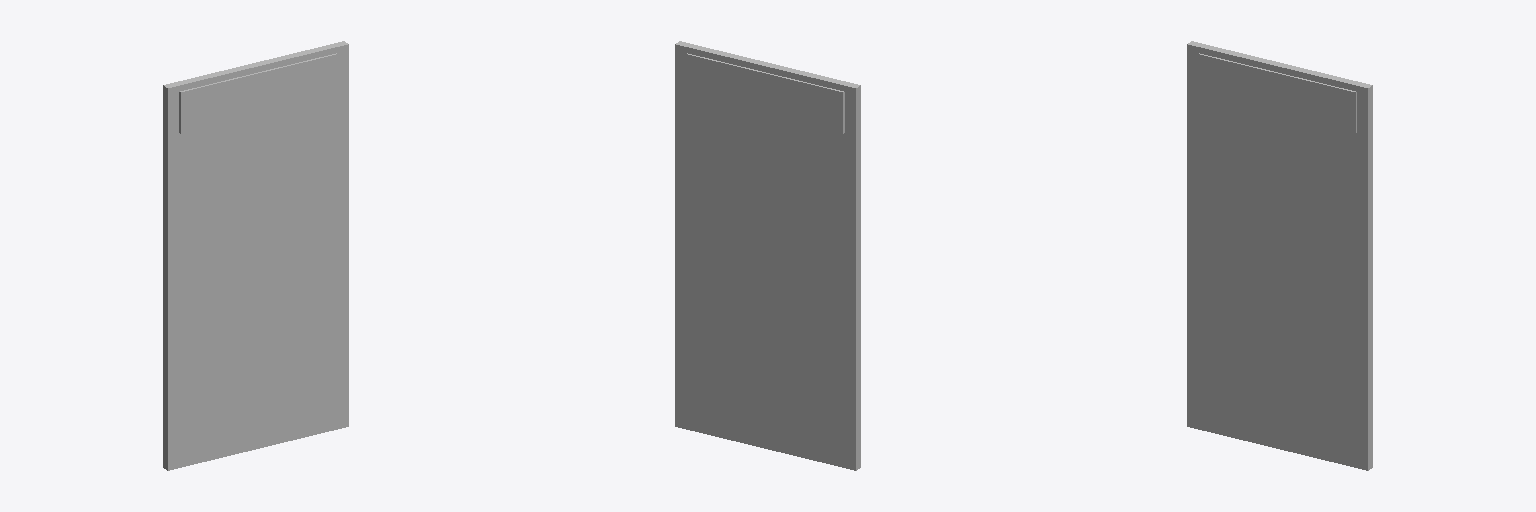
Rendered from Door01.obj.
3 views of the same model, side by side, from view 1: azimuth 30°, elevation 25°; view 2: azimuth 150°, elevation 25°; view 3: azimuth 330°, elevation 25° (orthographic).
Visible parts, largest first — view 1: Door01; view 2: Door01; view 3: Door01.
Boxes of the visible parts, <box> form: Door01: <box>163,41,348,470</box>; Door01: <box>675,41,860,470</box>; Door01: <box>1187,41,1372,470</box>.
Size of the model in its own units: 1.47 by 2.98 by 0.0938.